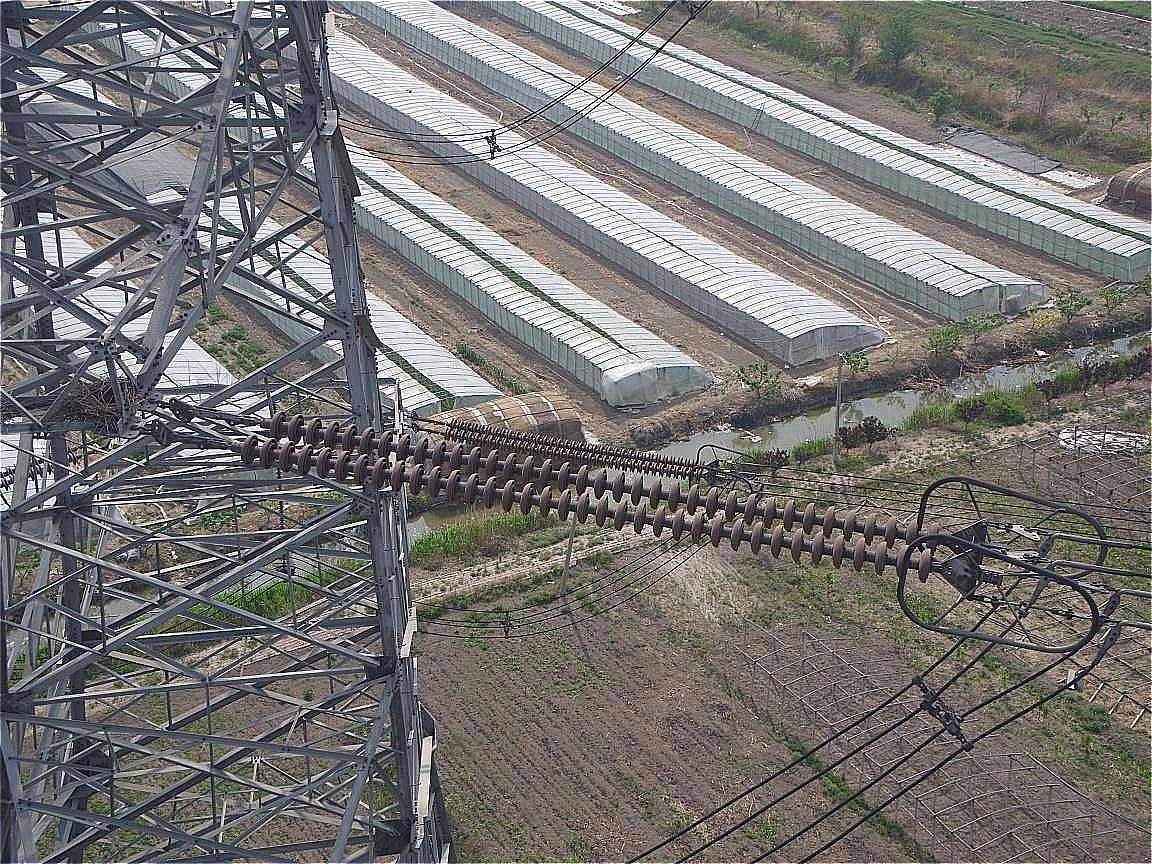insultor1: (236, 409, 942, 581)
